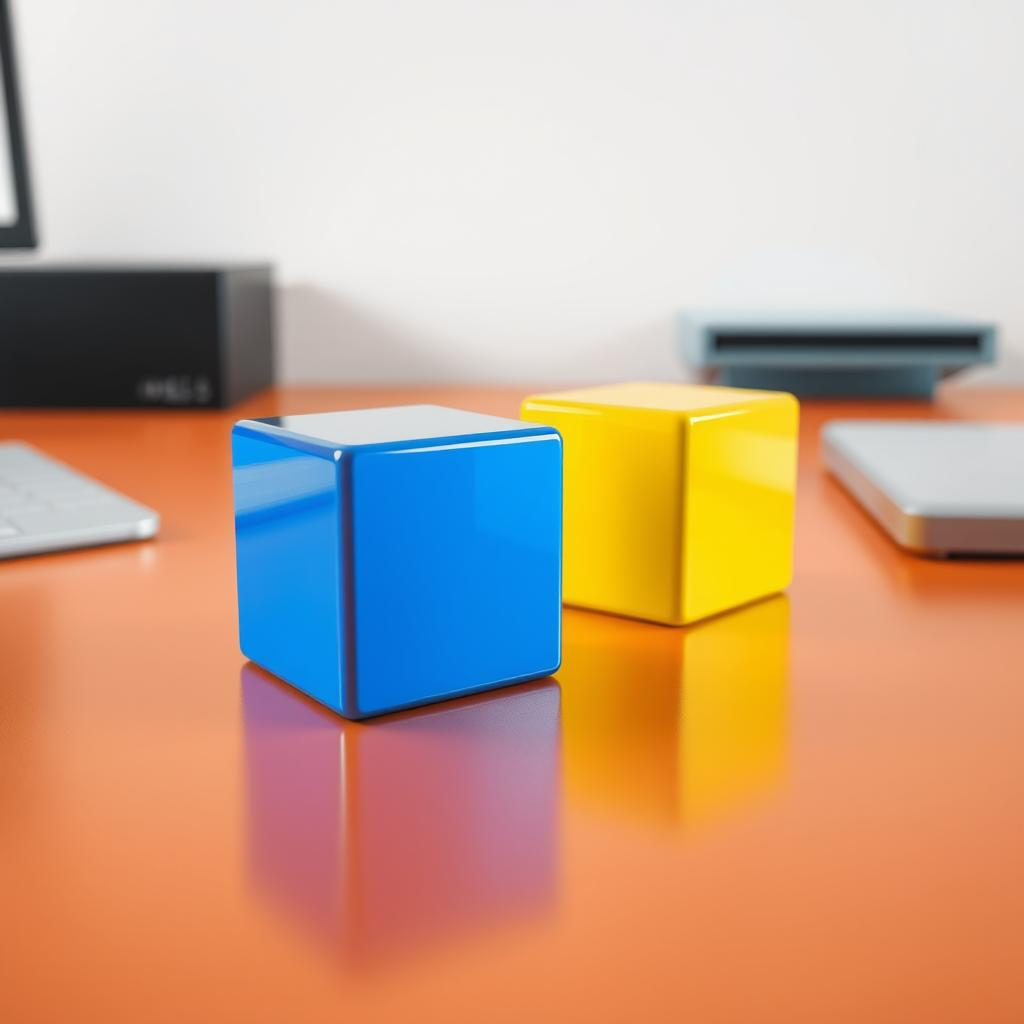cube: (230, 402, 563, 721), (519, 379, 799, 627)
